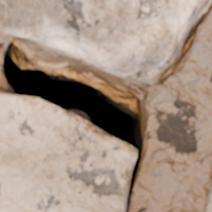brick: (0, 0, 210, 82), (0, 90, 136, 211), (206, 188, 211, 211)
crack: (0, 0, 211, 209)
